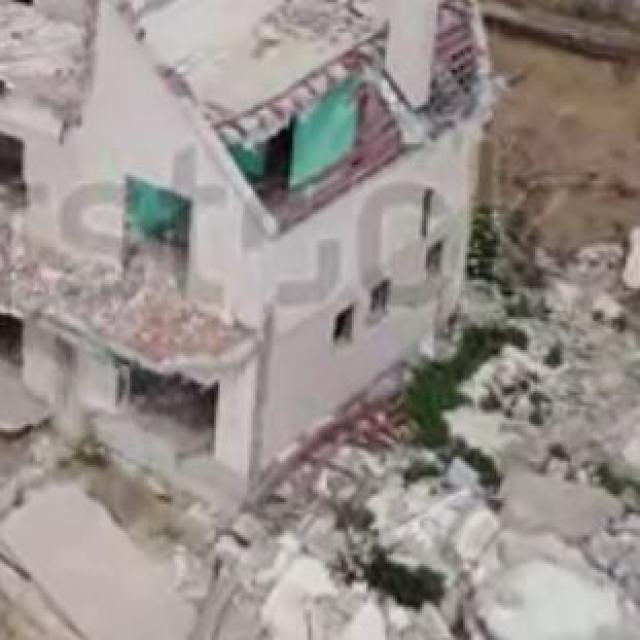collapsed_building: (0, 2, 477, 489)
